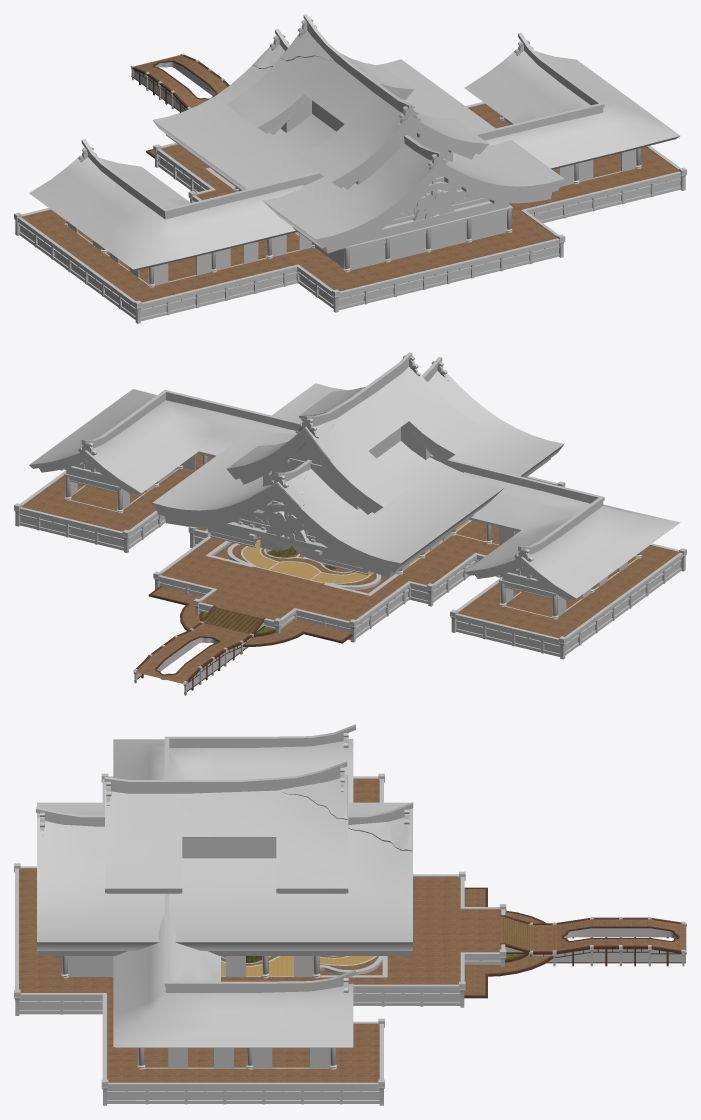
The model's file is CLX_jianzhu_01.FBX.
3 renders of one model, top to bottom at view 1: azimuth 30°, elevation 25°; view 2: azimuth 150°, elevation 25°; view 3: azimuth 270°, elevation 25°, orthographic. The views are drawn at different scales.
Visible parts, largest first — view 1: CLX_jianzhu_01; view 2: CLX_jianzhu_01; view 3: CLX_jianzhu_01.
Part boxes in pixels (bbox=[...]): CLX_jianzhu_01: bbox=[14, 14, 686, 323]; CLX_jianzhu_01: bbox=[14, 352, 686, 695]; CLX_jianzhu_01: bbox=[14, 724, 686, 1105].
Bounding box in the file's own units: 292 × 84.09 × 269.
